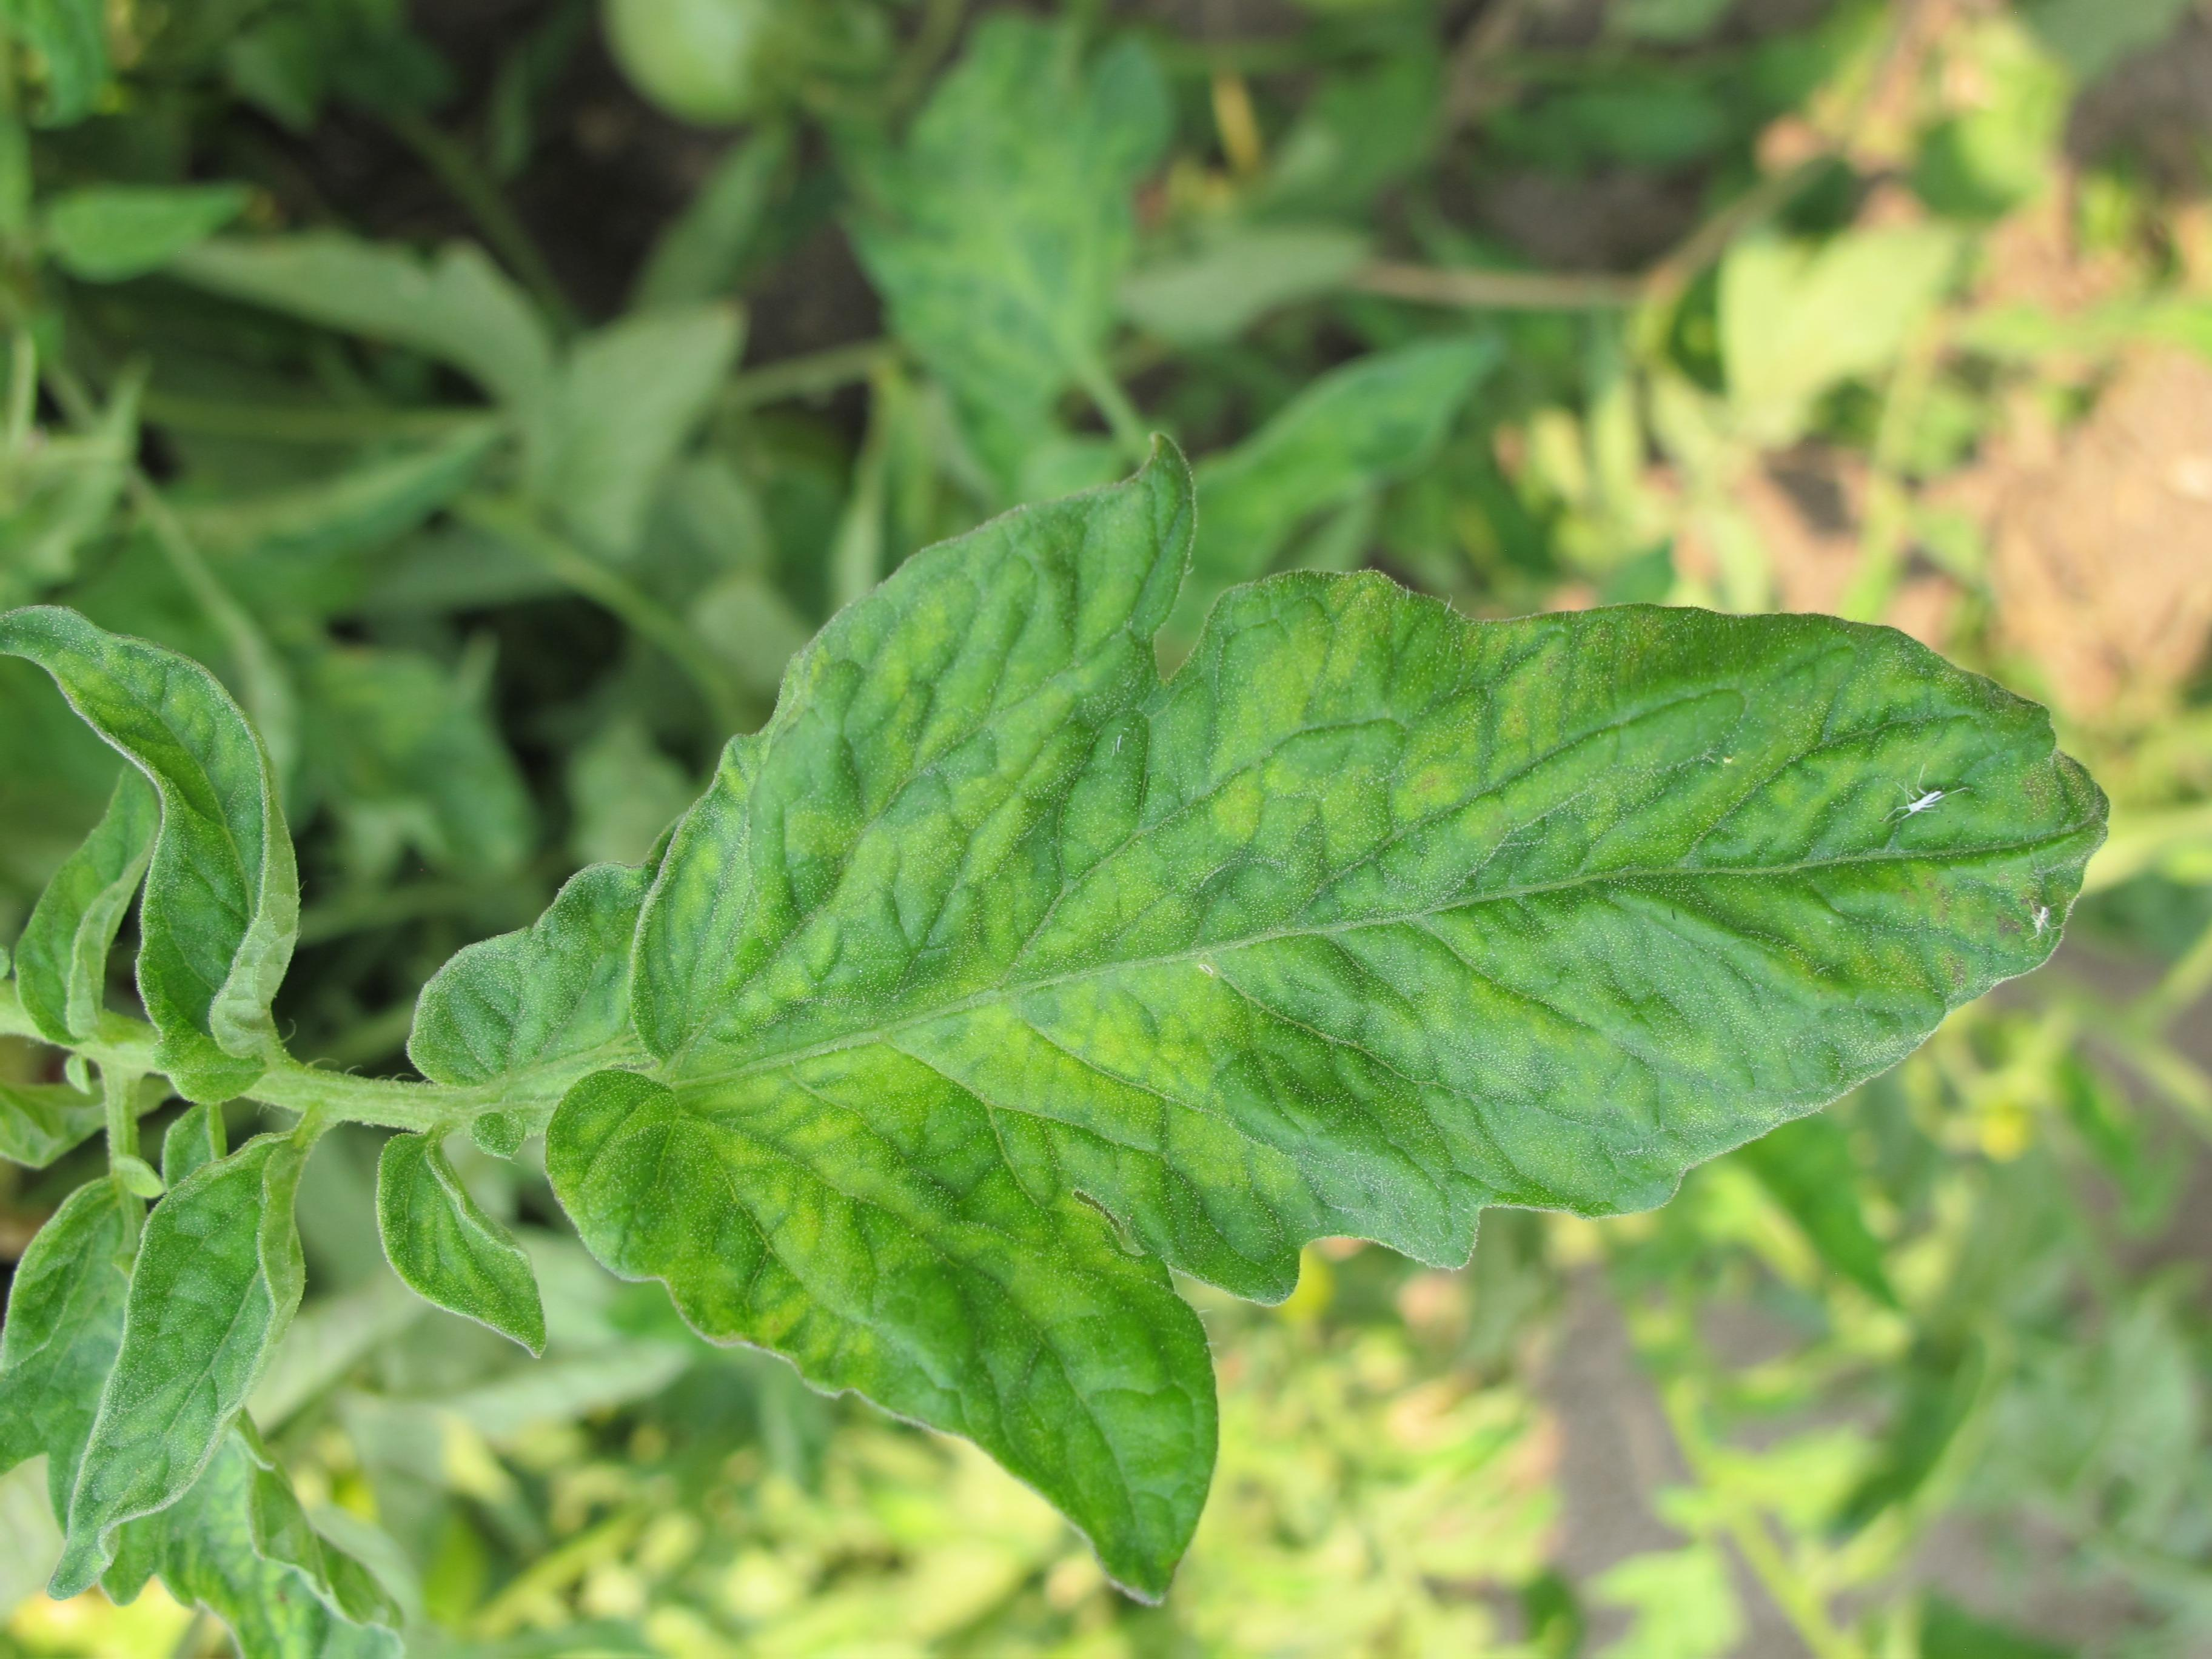Tomato leaf mosaic virus: (384, 385, 2116, 1567)
